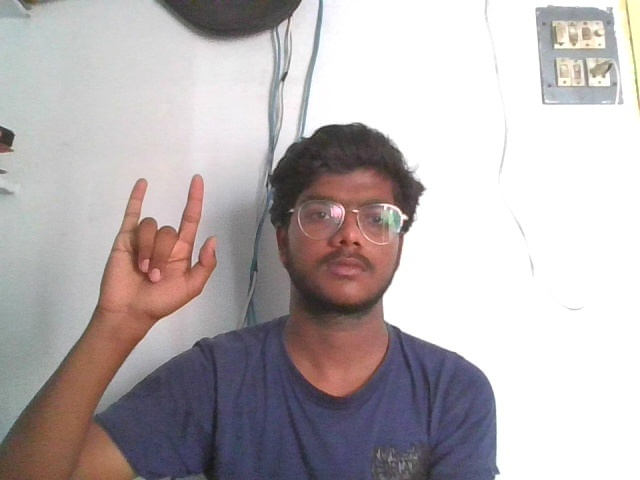IloveYou: (90, 170, 219, 320)
